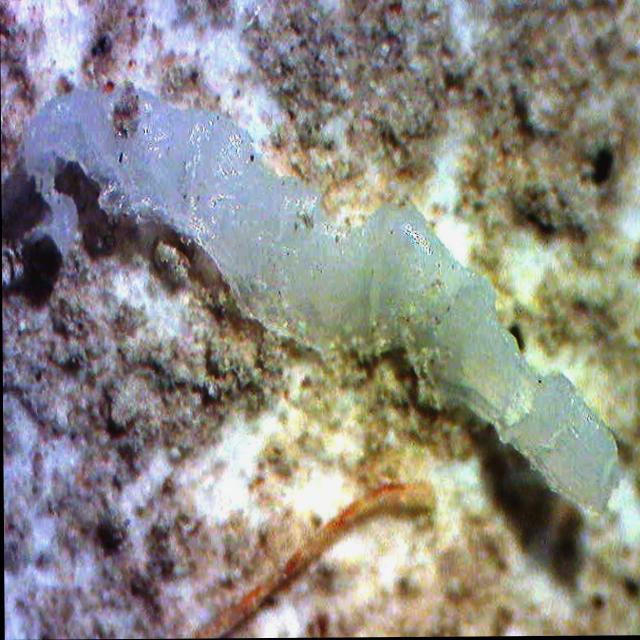microplastic: (22, 84, 620, 521)
